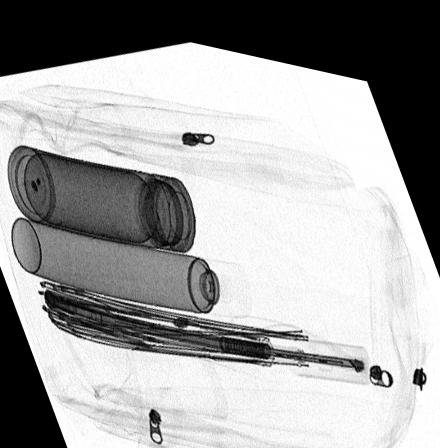Sprayer: (9, 215, 253, 307)
